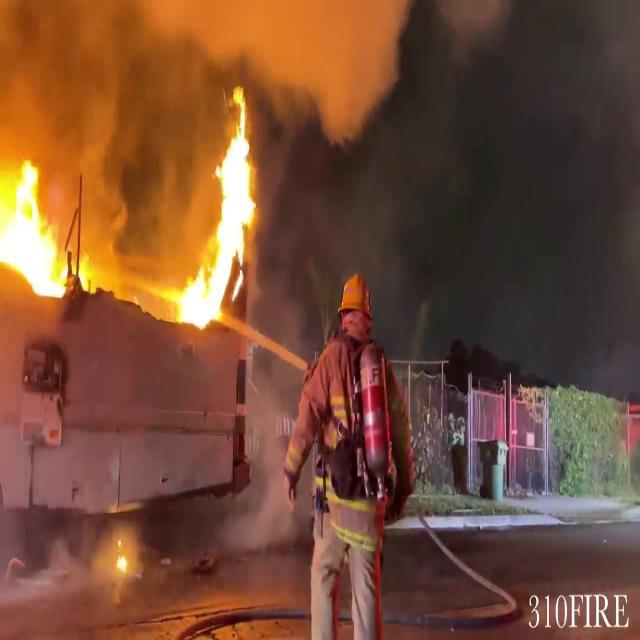Fire: (174, 86, 262, 332), (0, 149, 78, 302)
Smoke: (409, 1, 640, 390), (0, 1, 206, 184)
